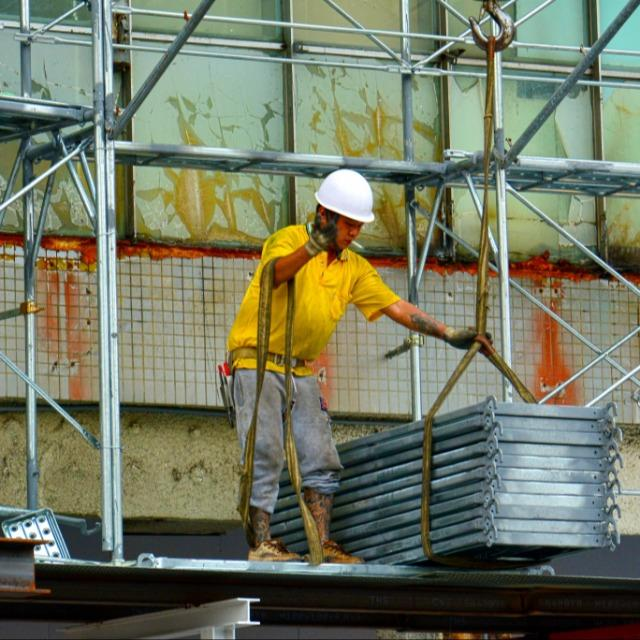Helmet: (314, 168, 378, 257)
